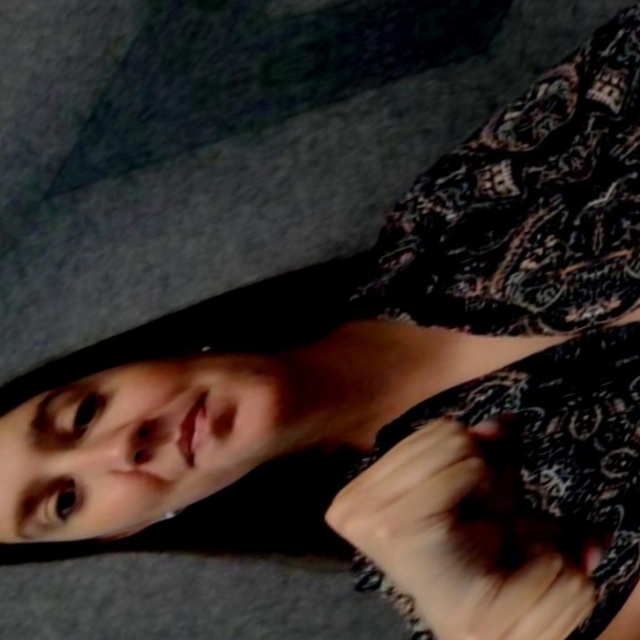Rock: (212, 289, 623, 640)
